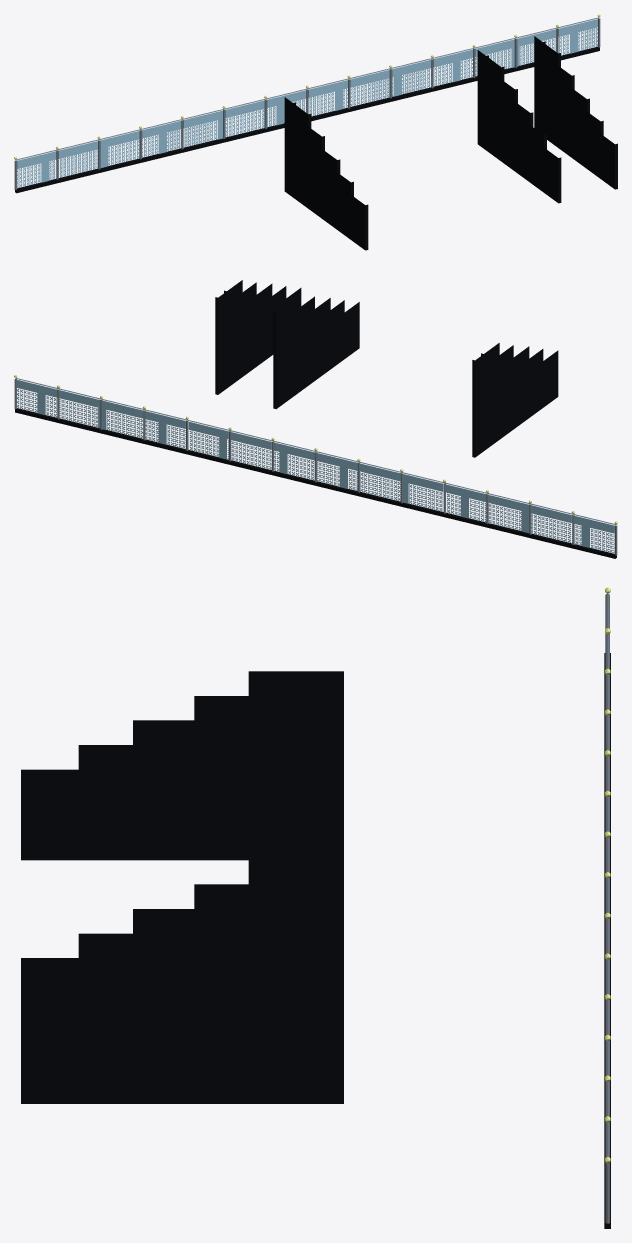
File: tt_struct_bowl_links_r310.glb
3 views of the same model, one above another, from view 1: azimuth 30°, elevation 25°; view 2: azimuth 150°, elevation 25°; view 3: azimuth 270°, elevation 25° (orthographic). The views are drawn at different scales.
Parts seen in each view (by area): view 1: Cheek_Wall, Guard_Pane_Scissor, Guard_Kerb, Guard_Posts, Guard_Rail; view 2: Cheek_Wall, Guard_Pane_Scissor, Guard_Kerb, Guard_Posts, Guard_Rail; view 3: Cheek_Wall, Guard_Rail, Guard_Kerb, Guard_Posts.
Boxes of the visible parts, x1,y1,x2,y2 form: Cheek_Wall: [284, 36, 617, 250]; Guard_Pane_Scissor: [17, 19, 597, 187]; Guard_Kerb: [15, 46, 599, 193]; Guard_Posts: [14, 18, 600, 189]; Guard_Rail: [15, 17, 599, 160]; Cheek_Wall: [215, 280, 558, 457]; Guard_Pane_Scissor: [17, 380, 614, 553]; Guard_Kerb: [15, 408, 616, 558]; Guard_Posts: [14, 379, 617, 555]; Guard_Rail: [15, 378, 616, 524]; Cheek_Wall: [21, 671, 343, 1103]; Guard_Rail: [605, 593, 609, 1164]; Guard_Kerb: [604, 653, 610, 1228]; Guard_Posts: [605, 595, 609, 1223].
Size of what is drawn, in the model's own units: 19.95 by 3.08 by 8.7.
Materials: 5 (4 with a texture image).
